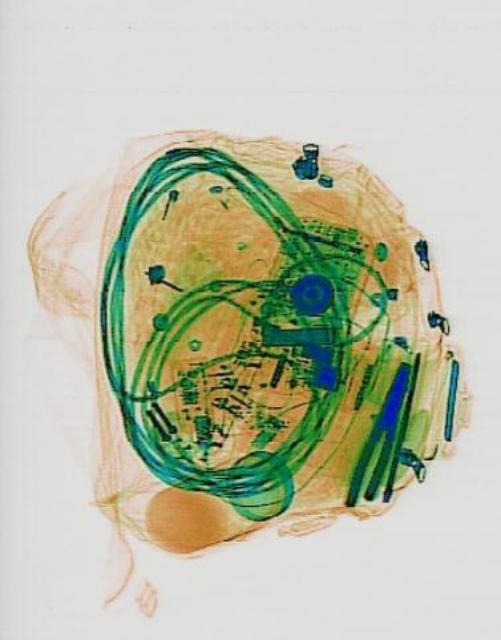Pliers: (340, 352, 414, 512)
